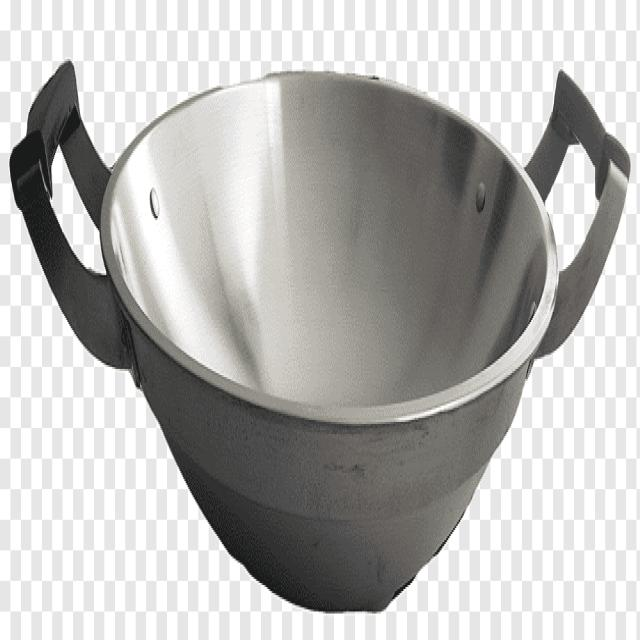Wajan: (9, 34, 632, 627)
